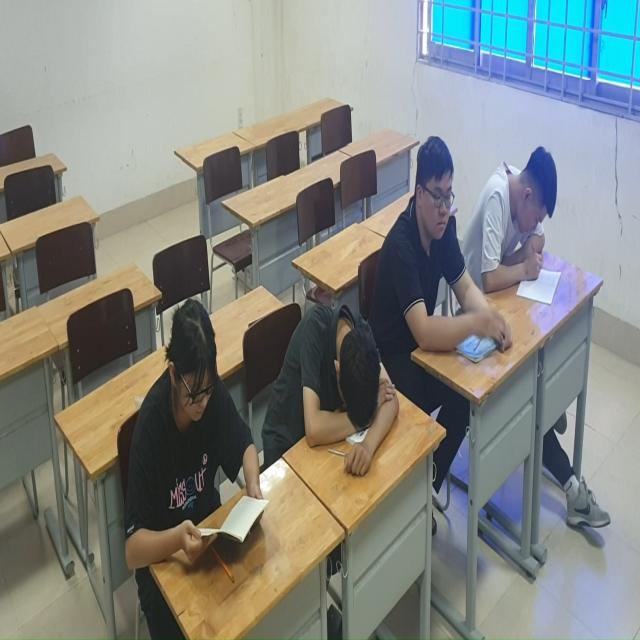read: (113, 272, 276, 594), (390, 138, 506, 367), (482, 138, 571, 315)
sleep: (265, 284, 405, 485)
